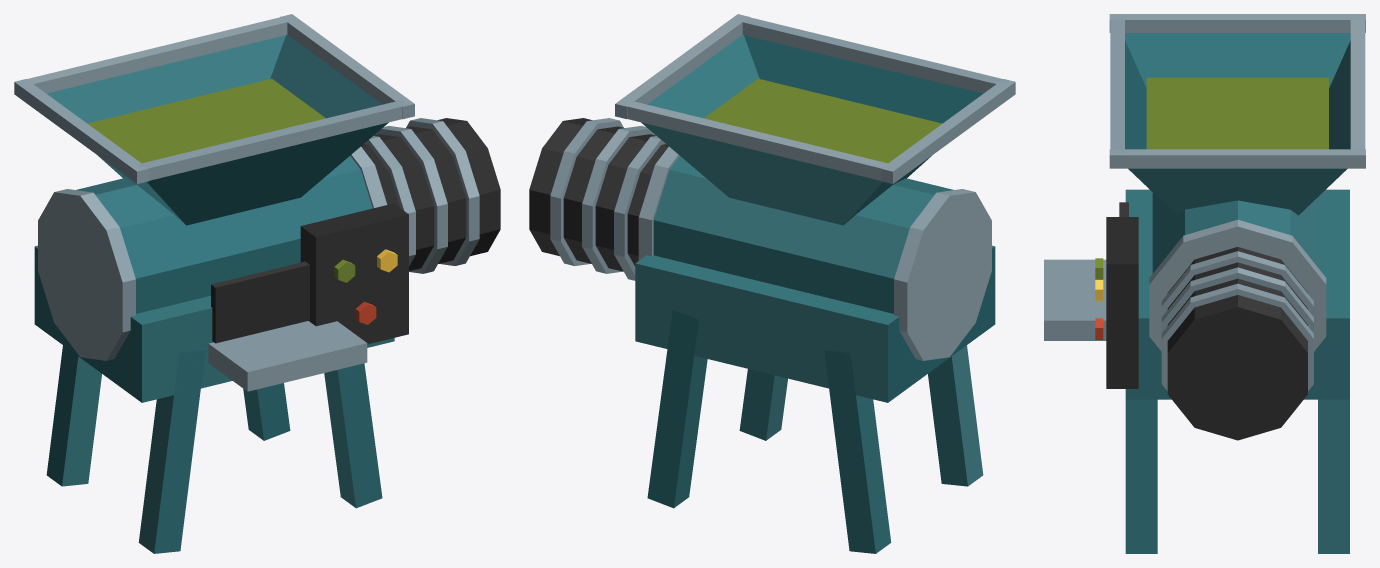
File: N03_Motor.fbx
The picture shows the model from 3 angles, left to right: view 1: azimuth 30°, elevation 25°; view 2: azimuth 150°, elevation 25°; view 3: azimuth 270°, elevation 25°; orthographic projection. The views are drawn at different scales.
Parts seen in each view (by area): view 1: N03_Motor.002; view 2: N03_Motor.002; view 3: N03_Motor.002.
Boxes of the visible parts, x1,y1,x2,y2 form: N03_Motor.002: (14, 14, 500, 553); N03_Motor.002: (529, 14, 1015, 553); N03_Motor.002: (1044, 14, 1365, 553).
Size of the model in its own units: 1.47 by 1.43 by 1.01.
